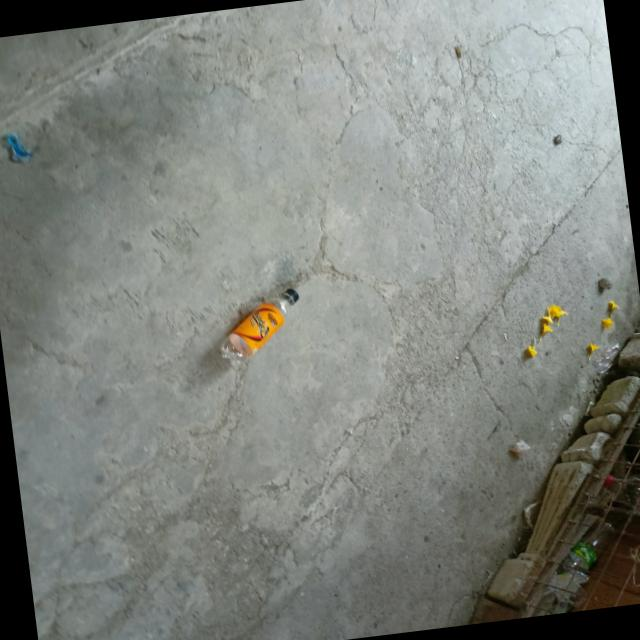Bottle: (218, 288, 297, 364)
